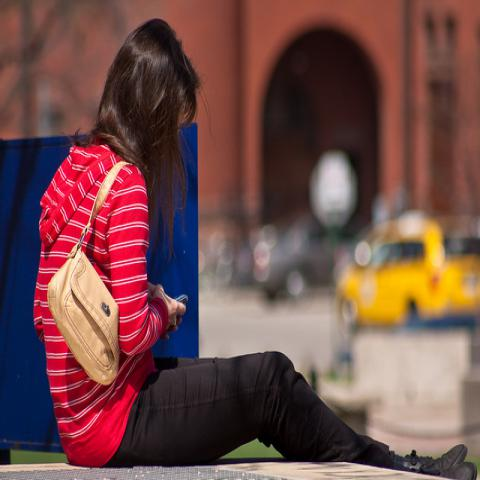car: (335, 216, 479, 328), (254, 212, 355, 305)
